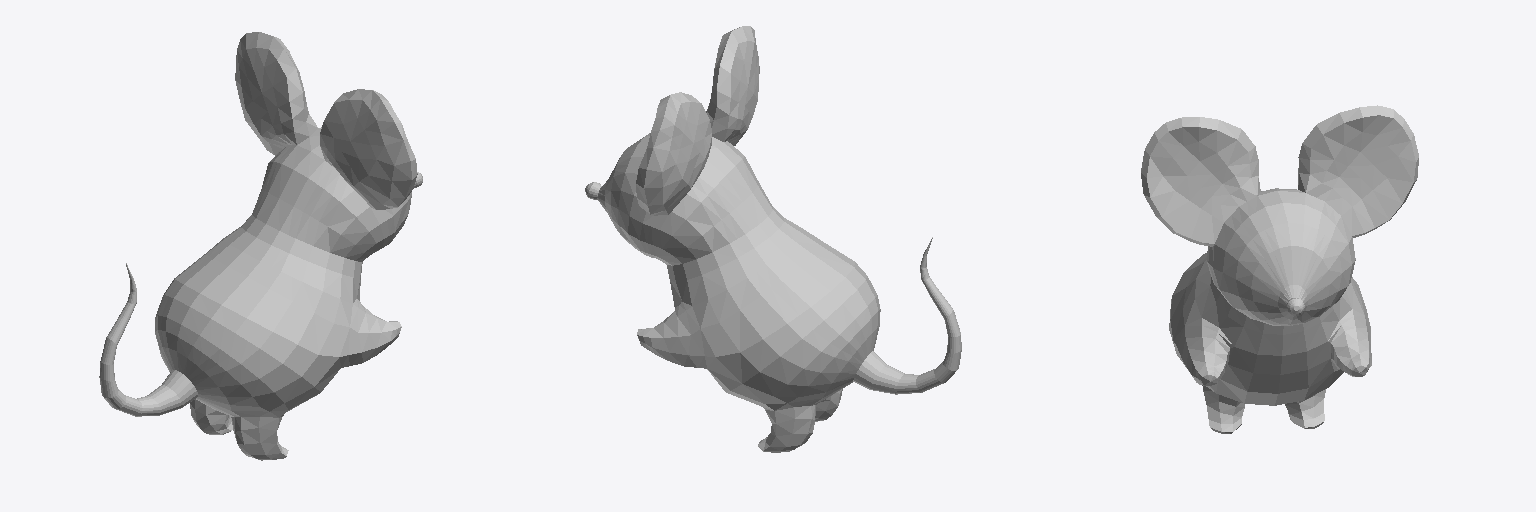
Rendered from IceTowerMouse.obj.
The picture shows the model from 3 angles: view 1: azimuth 30°, elevation 25°; view 2: azimuth 150°, elevation 25°; view 3: azimuth 270°, elevation 25°; orthographic projection.
Parts seen in each view (by area): view 1: Mouse7; view 2: Mouse7; view 3: Mouse7.
Part boxes in pixels (left/top/right/bottom): Mouse7: left=99, top=32, right=422, bottom=460; Mouse7: left=585, top=26, right=961, bottom=452; Mouse7: left=1141, top=105, right=1418, bottom=433.
Bounding box in the file's own units: 1.17 × 1.14 × 0.8147.